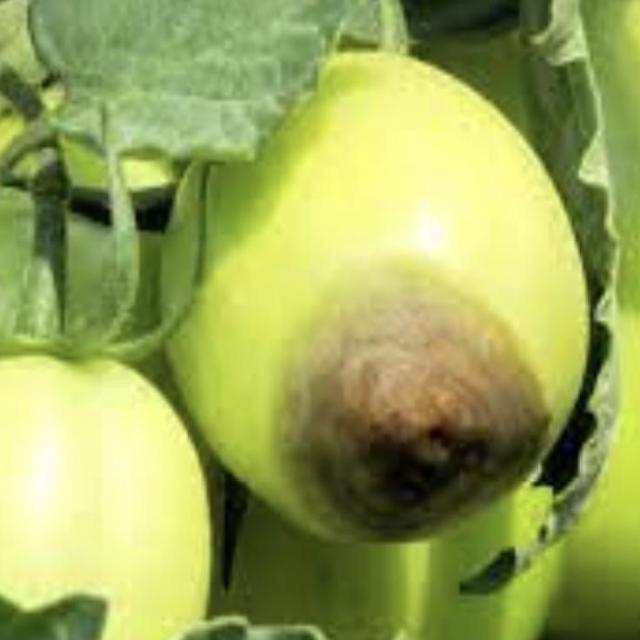Blossom End Rot Fruit: (188, 178, 364, 360)
